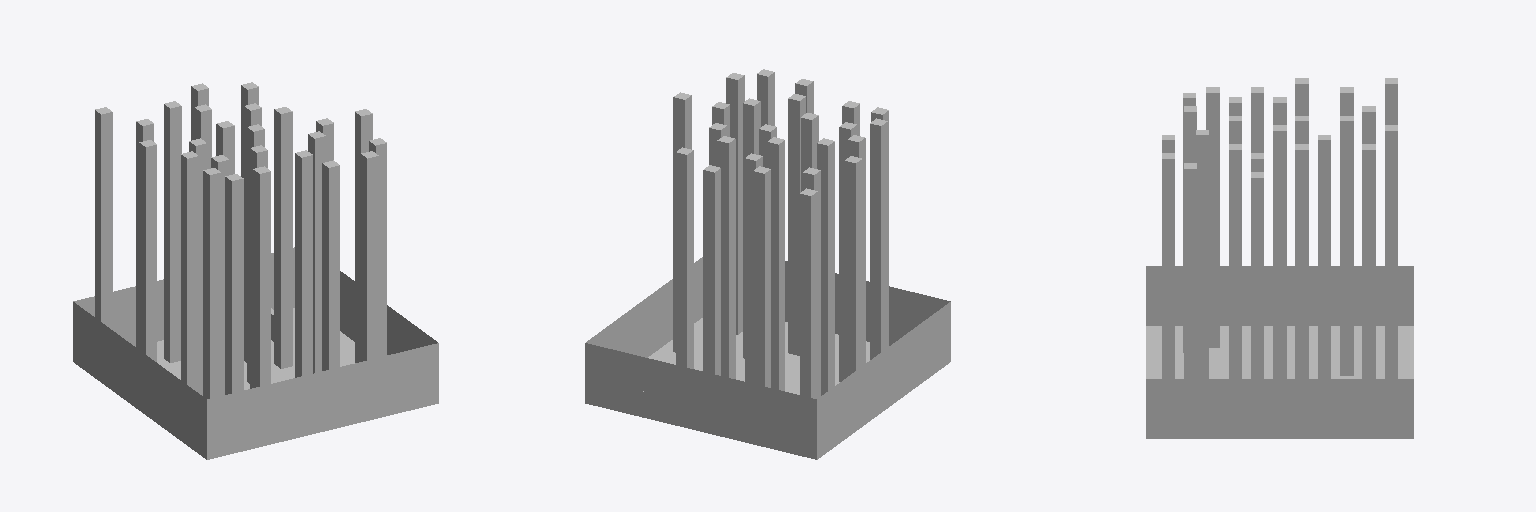
3 views of the same model, side by side, from view 1: azimuth 30°, elevation 25°; view 2: azimuth 150°, elevation 25°; view 3: azimuth 270°, elevation 25° (orthographic).
Visible parts, largest first — view 1: Плоскость.005_Плоскость.008, Плоскость.002_Плоскость.009, Куб.006_Куб.015, Куб.015_Куб.024, Куб.013_Куб.022, Куб.012_Куб.021, Куб.011_Куб.020, Куб.026_Куб.035, Куб.010_Куб.019, Куб.027_Куб.036, Куб.014_Куб.023, Куб.019_Куб.028 (+16 smaller); view 2: Плоскость.004_Плоскость.007, Плоскость.002_Плоскость.009, Куб.011_Куб.020, Куб.014_Куб.023, Плоскость.003_Плоскость.006, Куб.022_Куб.031, Куб.015_Куб.024, Куб.027_Куб.036, Куб.023_Куб.032, Куб.007_Куб.016, Куб.008_Куб.017, Куб.004_Куб.013 (+12 smaller); view 3: Плоскость.003_Плоскость.006, Плоскость.002_Плоскость.009, Плоскость.001_Плоскость.004, Куб.024_Куб.033, Куб.002_Куб.003, Куб.023_Куб.032, Куб.006_Куб.015, Куб.022_Куб.031, Куб.007_Куб.016, Куб.005_Куб.014, Куб.026_Куб.035, Куб.011_Куб.020 (+8 smaller).
Boxes of the visible parts, <box> form: Плоскость.005_Плоскость.008: <box>207,343,438,459</box>; Плоскость.002_Плоскость.009: <box>73,302,206,459</box>; Куб.006_Куб.015: <box>274,107,292,368</box>; Куб.015_Куб.024: <box>164,101,181,362</box>; Куб.013_Куб.022: <box>181,151,198,392</box>; Куб.012_Куб.021: <box>225,174,243,394</box>; Куб.011_Куб.020: <box>203,168,220,398</box>; Куб.026_Куб.035: <box>295,150,312,377</box>; Куб.010_Куб.019: <box>253,166,270,387</box>; Куб.027_Куб.036: <box>95,107,112,329</box>; Куб.014_Куб.023: <box>139,140,156,361</box>; Куб.019_Куб.028: <box>361,151,378,361</box>; Плоскость.004_Плоскость.007: <box>585,343,816,459</box>; Плоскость.002_Плоскость.009: <box>817,302,950,459</box>; Куб.011_Куб.020: <box>870,118,887,359</box>; Куб.014_Куб.023: <box>844,156,862,378</box>; Плоскость.003_Плоскость.006: <box>586,257,702,357</box>; Куб.022_Куб.031: <box>676,147,693,368</box>; Куб.015_Куб.024: <box>753,166,770,387</box>; Куб.027_Куб.036: <box>800,188,817,398</box>; Куб.023_Куб.032: <box>703,165,720,375</box>; Куб.007_Куб.016: <box>717,136,735,378</box>; Куб.008_Куб.017: <box>817,138,834,395</box>; Куб.004_Куб.013: <box>767,137,784,390</box>; Плоскость.003_Плоскость.006: <box>1146,379,1413,438</box>; Плоскость.002_Плоскость.009: <box>1146,266,1413,325</box>; Плоскость.001_Плоскость.004: <box>1146,326,1413,378</box>; Куб.024_Куб.033: <box>1340,116,1353,375</box>; Куб.002_Куб.003: <box>1273,125,1286,378</box>; Куб.023_Куб.032: <box>1385,125,1397,378</box>; Куб.006_Куб.015: <box>1295,144,1308,378</box>; Куб.022_Куб.031: <box>1362,144,1375,378</box>; Куб.007_Куб.016: <box>1318,135,1330,378</box>; Куб.005_Куб.014: <box>1229,144,1241,378</box>; Куб.026_Куб.035: <box>1196,130,1208,378</box>; Куб.011_Куб.020: <box>1206,87,1219,347</box>.
Bounding box in the file's own units: 12 × 12.66 × 12.01.